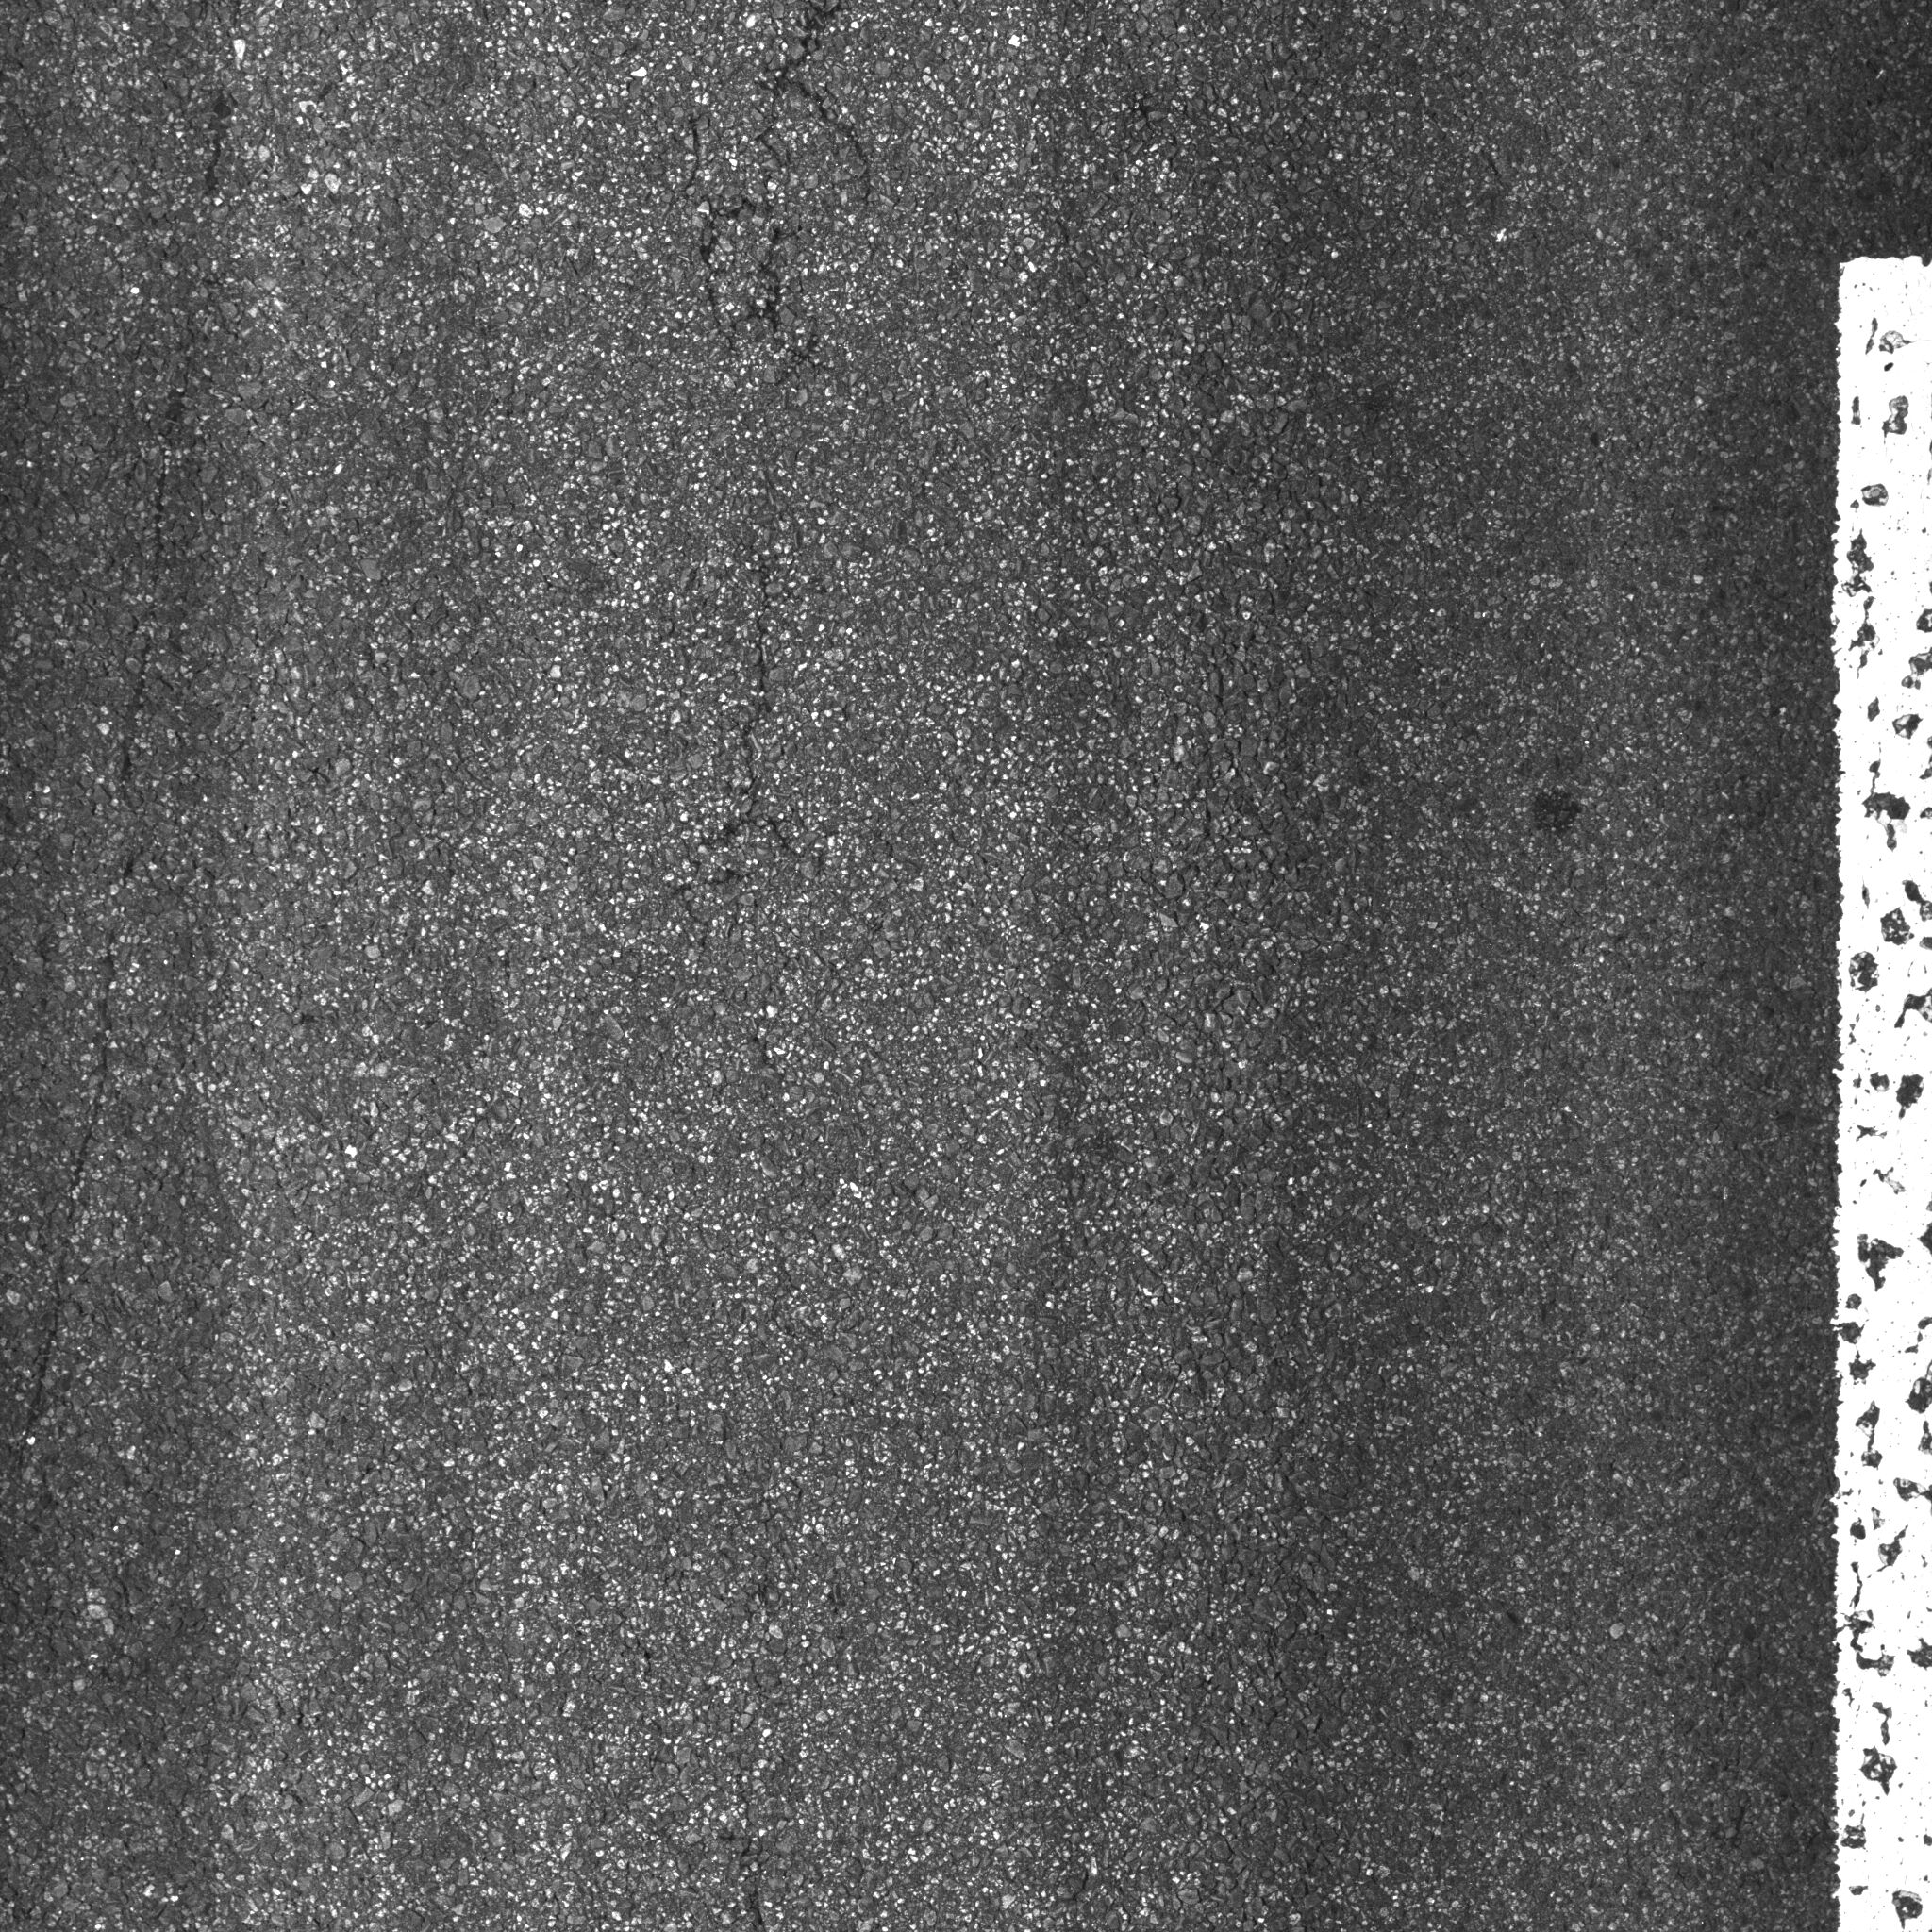longitudinal: (12, 327, 205, 1506), (676, 2, 897, 1003)
